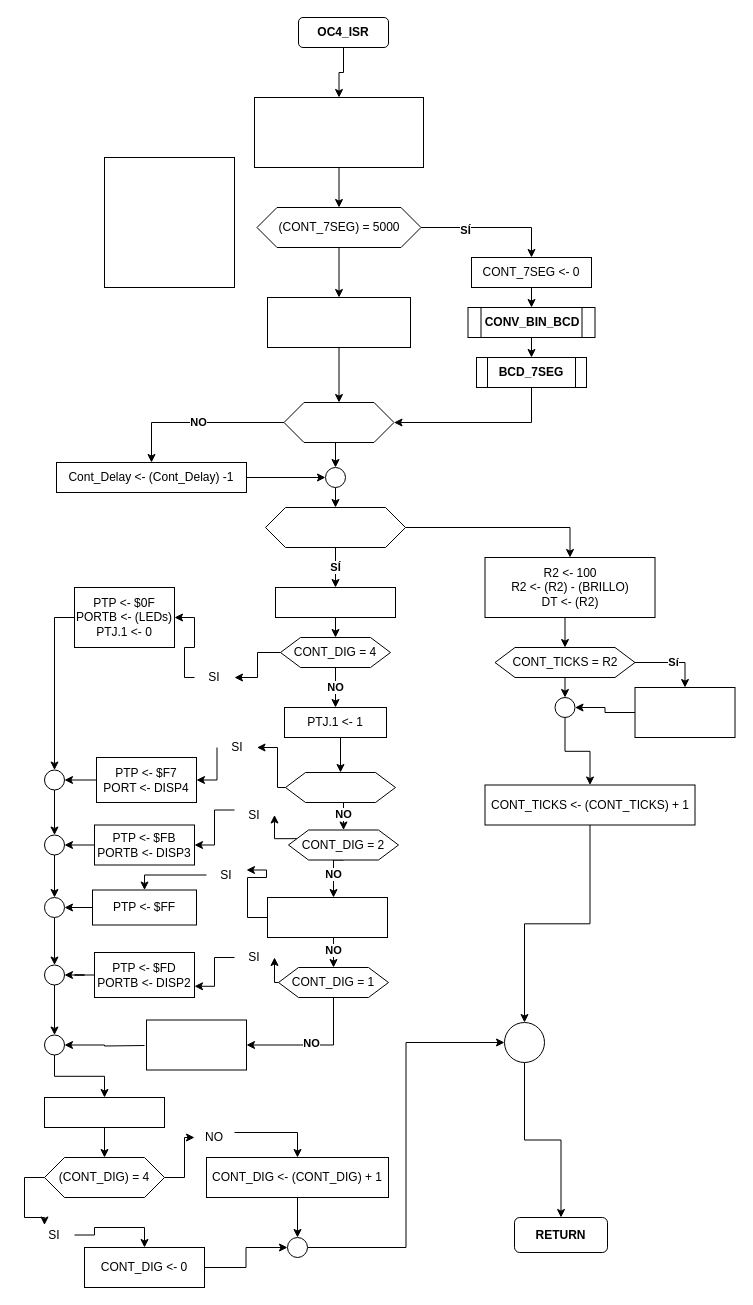
Image size: 753x1305. Some labels were removed from this diagram. The centre of each missing label's shape, as x and y in pixels:
(CONT_TICKS) = 100: [335,527]
BANDERAS.3 <- 1: [327,917]
C - carry K. - Y J - X R1 - A R2 - B RR1 - D: [169,222]
Cont_Delay = 0: [338,422]
CONT_DIG = 3: [340,787]
CONT_TICKS <- 0: [104,1112]
PTP <- $FE PORTB <- DISP1: [196,1044]
PTP <- $FF PTJ <- $02: [684,712]
R1 <- CONT_DIG: [335,602]
RR1 <- (RR1) + 1 CONT_7SEG <- (RR1): [338,322]
RR1 <- (TCNT) RR1 <- (RR1) + #60 TC4 <- (RR1) RR1 <- (CONT_7SEG): [339,132]
